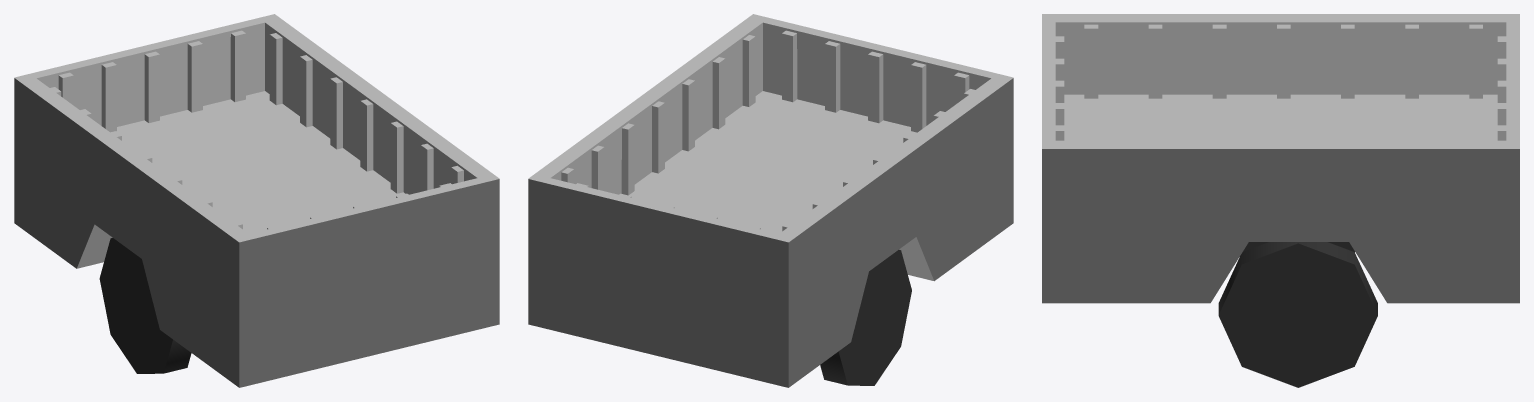
The model's file is Trolly_1.FBX.
The picture shows the model from 3 angles, left to right: view 1: azimuth 30°, elevation 25°; view 2: azimuth 150°, elevation 25°; view 3: azimuth 270°, elevation 25°; orthographic projection. The views are drawn at different scales.
Visible parts, largest first — view 1: Trolly_1; view 2: Trolly_1; view 3: Trolly_1.
Boxes of the visible parts, x1,y1,x2,y2 form: Trolly_1: (14, 14, 499, 387); Trolly_1: (528, 14, 1013, 387); Trolly_1: (1042, 14, 1519, 387).
Bounding box in the file's own units: 1.74 × 1.43 × 2.59.
Materials: 1 (1 with a texture image).
